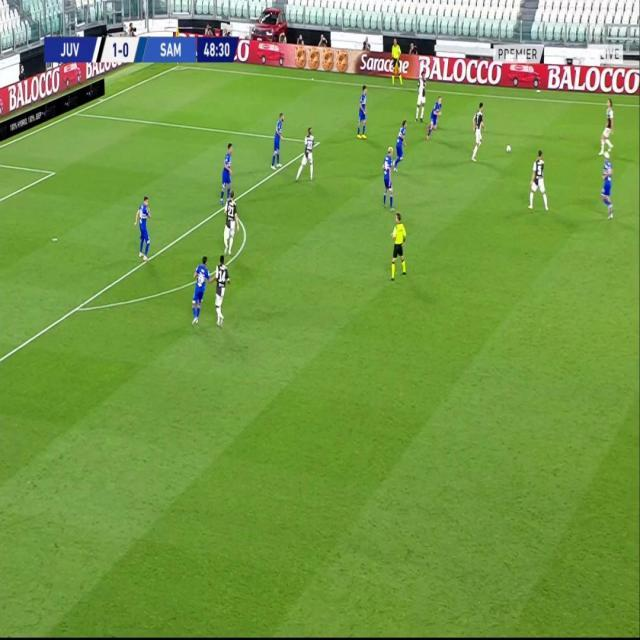ball: (506, 142, 512, 154)
player: (190, 253, 212, 325), (134, 194, 154, 264), (529, 148, 550, 212), (212, 253, 229, 327), (296, 126, 318, 183), (223, 188, 239, 256), (599, 155, 615, 221), (598, 97, 615, 157), (470, 100, 486, 161), (219, 140, 234, 204), (381, 144, 395, 211), (393, 119, 409, 173), (271, 112, 285, 170), (357, 82, 370, 139), (427, 95, 443, 140), (415, 67, 428, 121)
referee: (389, 211, 408, 281), (389, 38, 403, 86)
